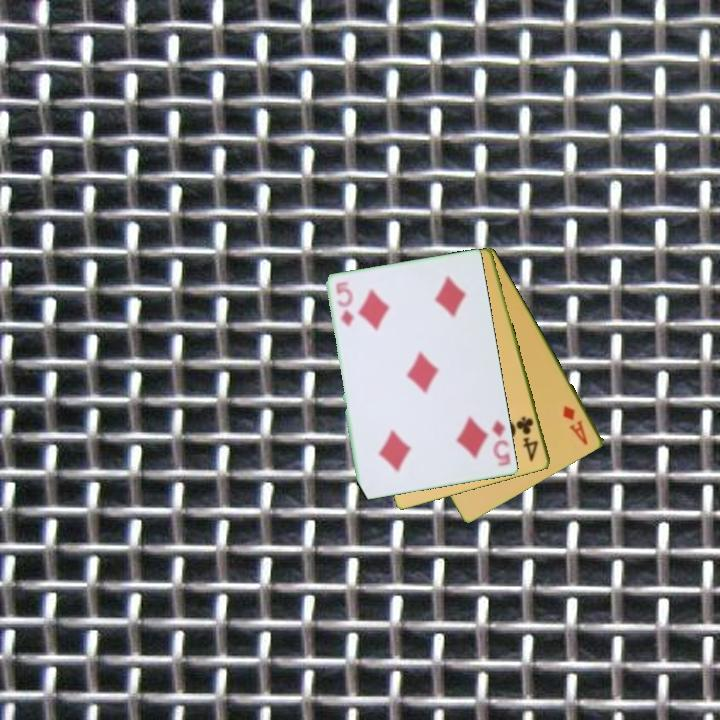4c: (513, 413, 541, 464)
5d: (488, 417, 514, 469), (333, 278, 355, 330)
Ad: (559, 402, 591, 448)
